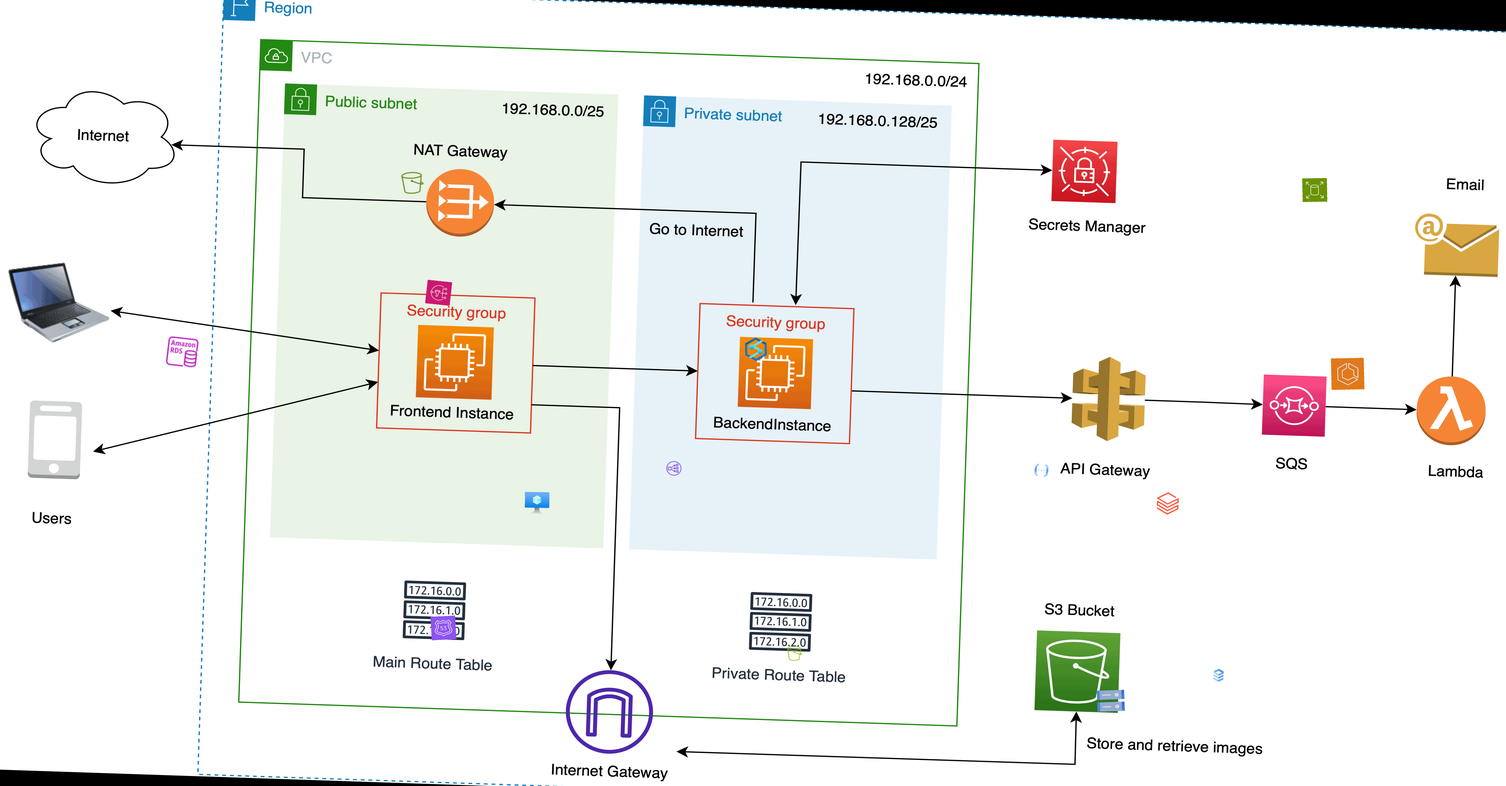aws_amazon_elastic_block_store: (1301, 177, 1328, 203)
aws_amazon_elastic_container_service: (1329, 357, 1365, 391)
aws_amazon_route_53: (430, 615, 457, 641)
aws_amazon_simple_notification_service: (425, 279, 452, 306)
aws_aurora_amazon_rds_instance: (164, 334, 200, 369)
aws_elastic_load_balancing_network_load_balancer: (665, 459, 683, 477)
aws_simple_storage_service_bucket: (399, 169, 426, 196)
aws_simple_storage_service_s3_standard: (786, 645, 803, 662)
azure_databricks: (1155, 491, 1181, 516)
azure_synapse_analytics: (742, 336, 769, 362)
azure_virtual_machine: (524, 491, 550, 516)
gcp_cloud_functions: (1032, 461, 1051, 479)
gcp_cloud_sql: (1209, 667, 1227, 684)
gcp_cloud_storage: (1092, 683, 1129, 718)
